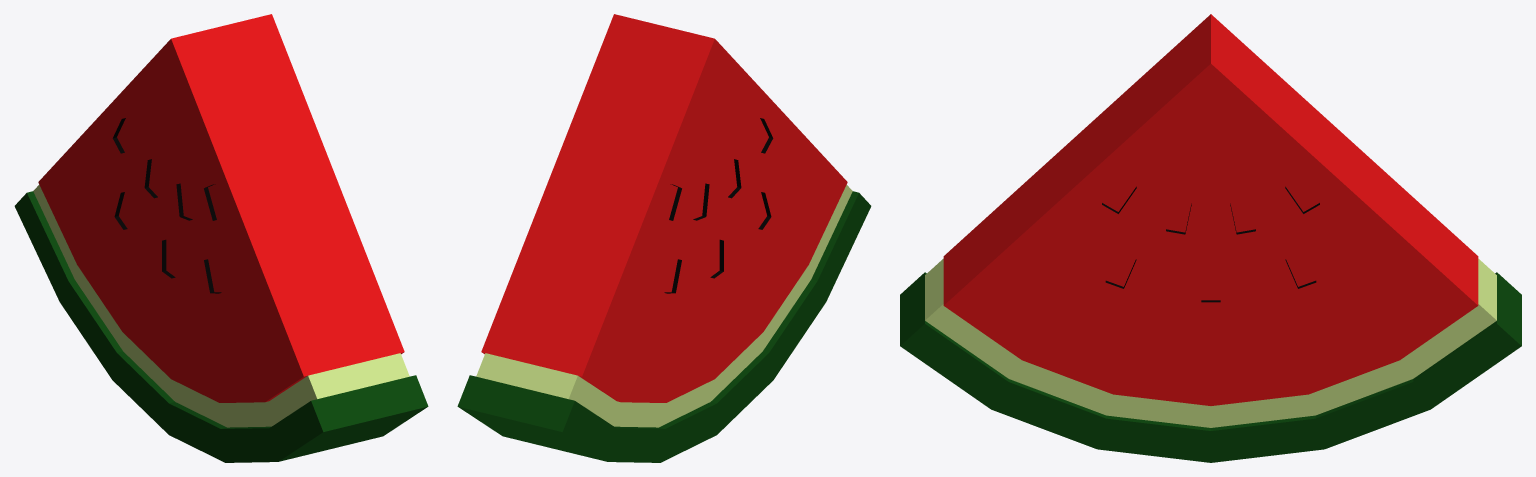
Rendered from watermelon_slice.obj.
The picture shows the model from 3 angles, left to right: view 1: azimuth 30°, elevation 25°; view 2: azimuth 150°, elevation 25°; view 3: azimuth 270°, elevation 25°; orthographic projection.
Parts seen in each view (by area): view 1: watermelon_slice; view 2: watermelon_slice; view 3: watermelon_slice.
Part boxes in pixels (x1=…): watermelon_slice: x1=14, y1=14, x2=428, y2=462; watermelon_slice: x1=457, y1=14, x2=871, y2=462; watermelon_slice: x1=900, y1=14, x2=1521, y2=462.
Bounding box in the file's own units: 0.026 × 0.09 × 0.1273.
